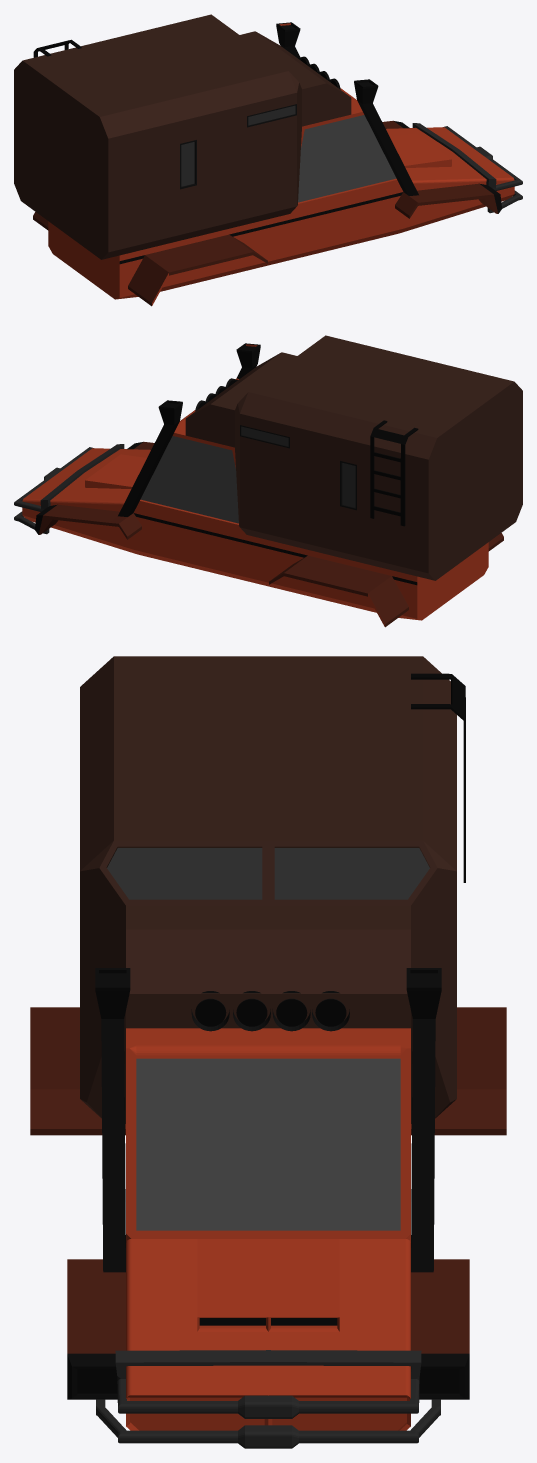
Rendered from ChassisMesh.obj.
The picture shows the model from 3 angles, top to bottom: view 1: azimuth 30°, elevation 25°; view 2: azimuth 150°, elevation 25°; view 3: azimuth 270°, elevation 25°; orthographic projection. The views are drawn at different scales.
Parts seen in each view (by area): view 1: Cube.002, Cube.001, Cube.003; view 2: Cube.002, Cube.001, Plane.001, Cube.003; view 3: Cube.001, Cube.002, Cube.003, Circle.007, Plane.001.
Boxes of the visible parts, x1,y1,x2,y2 form: Cube.002: (14,14,351,259); Cube.001: (33,22,514,306); Cube.003: (412,123,522,213); Cube.002: (185,335,522,580); Cube.001: (22,343,503,627); Plane.001: (370,420,418,526); Cube.003: (14,444,124,534); Cube.001: (30,968,506,1430); Cube.002: (80,656,456,1123); Cube.003: (96,1350,440,1448); Circle.007: (191,991,349,1031); Plane.001: (411,673,465,882).
Bounding box in the file's own units: 3.59 × 1.6 × 1.74.
